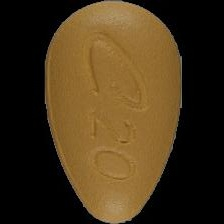0002-4464: (0, 0, 224, 224)
